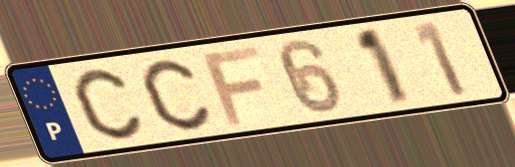1: (354, 25, 415, 108), (413, 17, 472, 99)
6: (275, 37, 346, 117)
C: (138, 56, 215, 133), (70, 66, 146, 142)
F: (199, 43, 266, 129)
